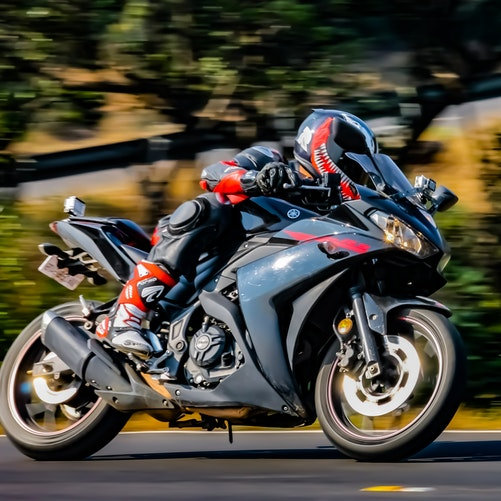helmet: (293, 102, 384, 194)
